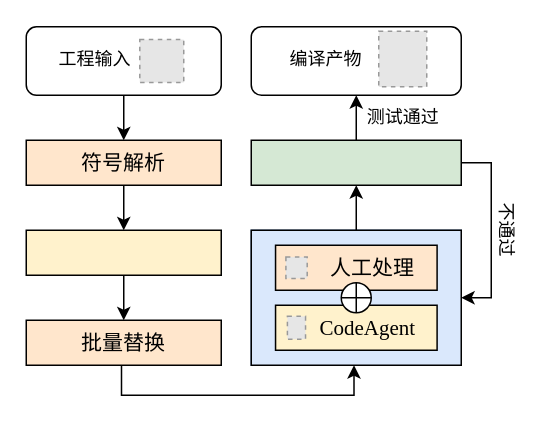
This 548x434 diagram has some shape labels left out. Grey dashed boxes stand in for pictures. The shapes that lost their labels are listed below. From the top down, each one's centre as x and y in pixels, then its label:
pixel 355 162: 漏洞检测
pixel 123 252: 规则/补丁生成
